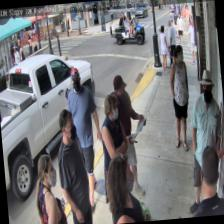person: (178, 67, 224, 213), (64, 65, 107, 212), (105, 72, 150, 196), (96, 94, 134, 222), (53, 106, 93, 224), (166, 45, 194, 151), (104, 152, 144, 224), (187, 143, 224, 216), (31, 152, 68, 224), (158, 24, 169, 72)
